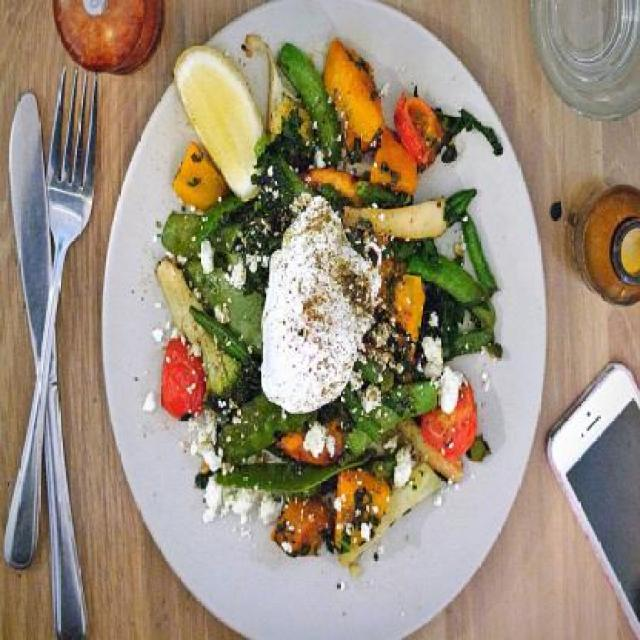Salad: (139, 32, 504, 588)
